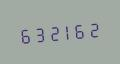one: (60, 20, 73, 42)
six: (17, 23, 30, 46), (74, 18, 87, 41)
three: (31, 22, 44, 45)
two: (46, 21, 59, 44), (88, 17, 101, 40)
